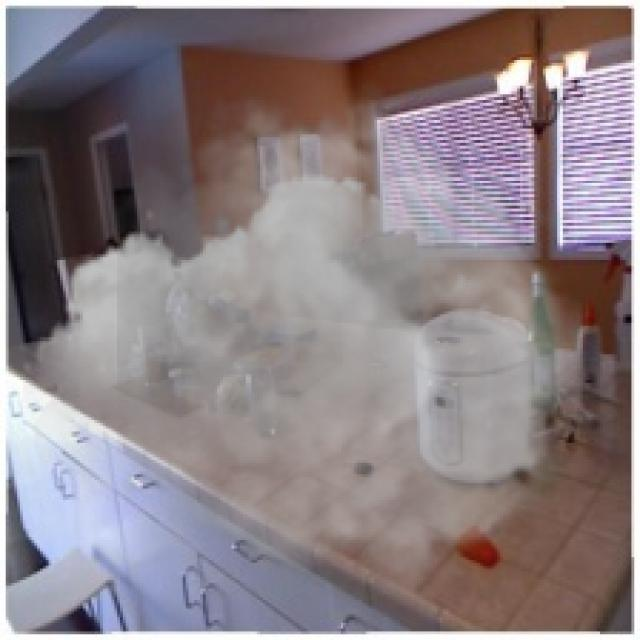smoke: (23, 77, 583, 606)
